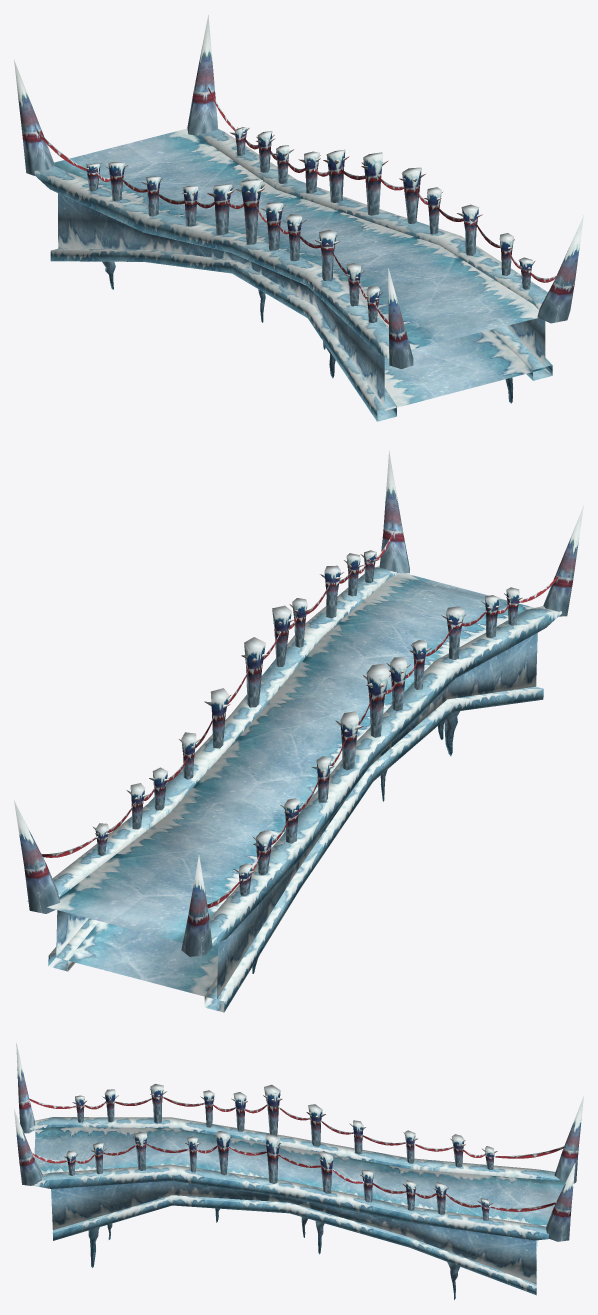
File: environment_stone_bingqiao_001_a.FBX
The picture shows the model from 3 angles, top to bottom: view 1: azimuth 30°, elevation 25°; view 2: azimuth 150°, elevation 25°; view 3: azimuth 270°, elevation 25°; orthographic projection. The views are drawn at different scales.
Parts seen in each view (by area): view 1: environment_stone_bingqiao_001_a, environment_stone_bingqiao_001_b, environment_stone_bingqiao_001_c; view 2: environment_stone_bingqiao_001_a, environment_stone_bingqiao_001_b; view 3: environment_stone_bingqiao_001_a, environment_stone_bingqiao_001_b, environment_stone_bingqiao_001_c.
Part boxes in pixels (x1,y1,x2,y2): environment_stone_bingqiao_001_a: [34, 128, 552, 421]; environment_stone_bingqiao_001_b: [14, 15, 583, 369]; environment_stone_bingqiao_001_c: [102, 261, 513, 403]; environment_stone_bingqiao_001_a: [27, 566, 561, 1012]; environment_stone_bingqiao_001_b: [14, 451, 583, 956]; environment_stone_bingqiao_001_a: [30, 1117, 565, 1295]; environment_stone_bingqiao_001_b: [14, 1042, 583, 1241]; environment_stone_bingqiao_001_c: [88, 1208, 459, 1300].
Bounding box in the file's own units: 302 × 405 × 1020.
Materials: 3 (3 with a texture image).
